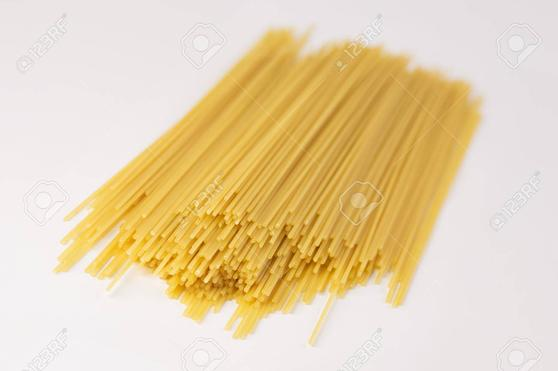spaghetti: (62, 30, 481, 340)
